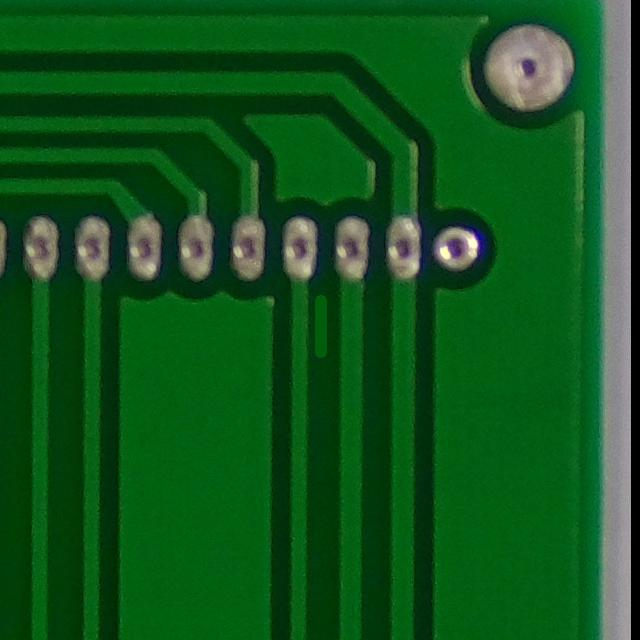spurious_copper: (299, 282, 342, 358)
